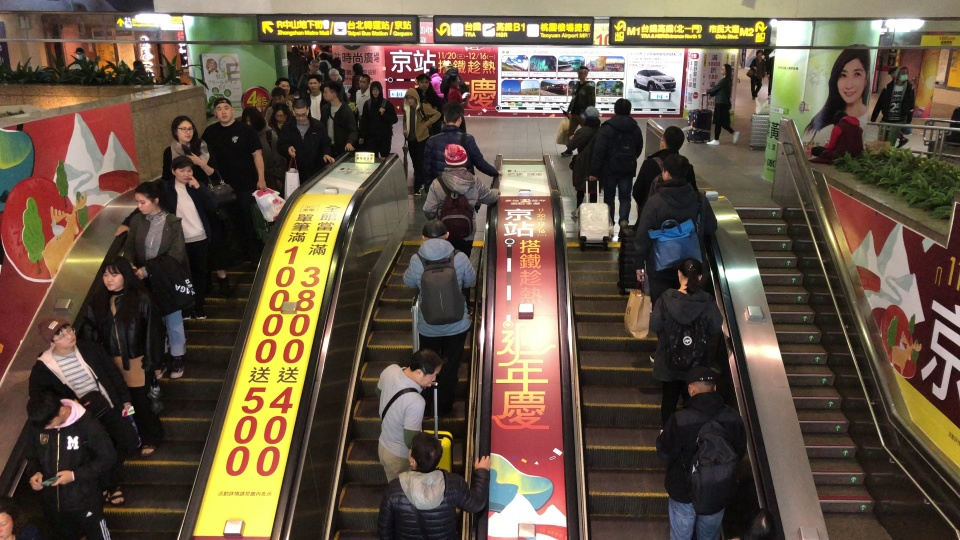person_head: (25, 388, 72, 430), (405, 431, 444, 473), (401, 350, 442, 389), (98, 257, 135, 294), (37, 317, 77, 351), (130, 181, 164, 216), (684, 366, 720, 399), (676, 257, 704, 290), (660, 153, 692, 181), (169, 115, 198, 143), (0, 497, 18, 540), (169, 156, 193, 184), (659, 125, 684, 151), (443, 143, 468, 168), (241, 107, 265, 130), (443, 101, 465, 126), (421, 218, 447, 239), (213, 98, 234, 123), (580, 105, 601, 127), (293, 99, 309, 123), (613, 97, 632, 117), (305, 73, 322, 92), (322, 86, 339, 103), (415, 73, 432, 90), (831, 110, 849, 126), (404, 88, 420, 105), (369, 81, 384, 99), (274, 77, 290, 93), (273, 105, 289, 121), (894, 66, 908, 82), (271, 87, 285, 102), (359, 74, 370, 91), (577, 65, 589, 80), (719, 64, 732, 77), (73, 47, 86, 59), (450, 74, 461, 88), (132, 59, 144, 71), (309, 58, 319, 72), (352, 62, 363, 74), (116, 59, 129, 69), (440, 61, 453, 71), (331, 58, 342, 68), (755, 50, 764, 59), (429, 66, 438, 74)
person_vbox: (29, 317, 143, 505), (633, 153, 727, 363), (77, 257, 165, 457), (646, 257, 745, 426), (112, 156, 218, 312), (400, 218, 480, 420), (657, 365, 749, 540), (20, 388, 119, 540), (123, 181, 189, 380), (379, 432, 492, 540), (160, 115, 228, 294), (199, 98, 265, 260), (377, 348, 443, 497), (423, 143, 501, 258), (423, 101, 507, 195), (589, 97, 644, 235), (631, 125, 698, 210), (277, 98, 335, 188), (401, 88, 441, 196), (565, 105, 603, 216), (869, 66, 915, 149), (560, 65, 597, 157), (702, 63, 740, 147), (806, 110, 864, 165), (358, 81, 399, 157), (241, 106, 278, 186), (321, 86, 358, 153), (414, 74, 444, 134), (446, 74, 467, 132), (439, 59, 469, 99), (265, 86, 296, 123), (302, 73, 325, 122), (264, 77, 297, 110), (296, 58, 326, 93), (746, 49, 766, 99), (354, 74, 371, 126), (267, 104, 293, 134), (70, 47, 98, 71), (348, 62, 364, 102), (428, 66, 445, 98), (330, 58, 346, 83), (115, 58, 132, 75), (132, 58, 147, 75)
